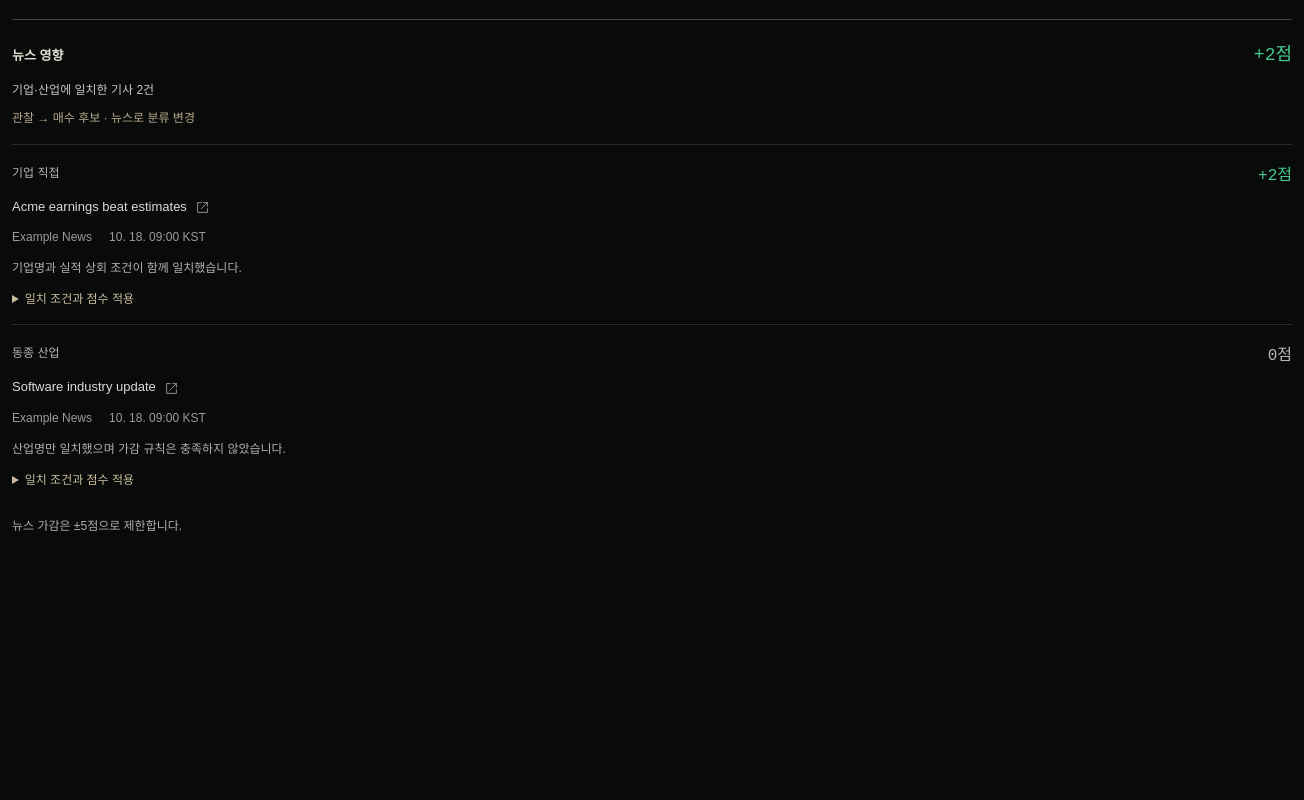
Scenario: reproducible scoring explanations › traces positive and zero news contributions and their effect on the category
Expected: the text "관찰 → 매수 후보 · 뉴스로 분류 변경" is shown, [12,111,195,125]
Expected: the text "기업 직접" is shown, [12,164,60,182]
Click the heading "일치 조건과 점수 적용" below "기업 직접" at (79, 300), box [25,292,134,306]
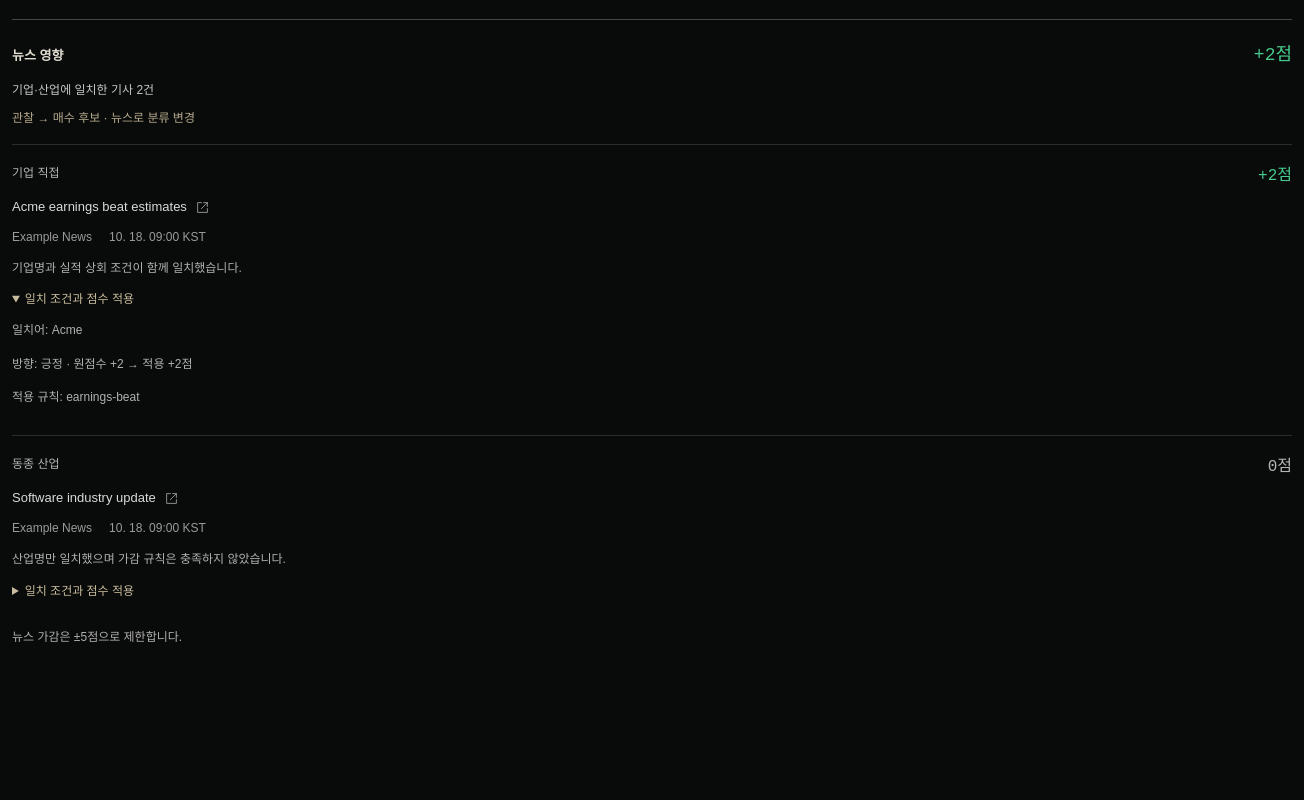
Expected: the text "방향: 긍정 · 원점수 +2 → 적용 +2점" is shown, [12,357,192,371]
